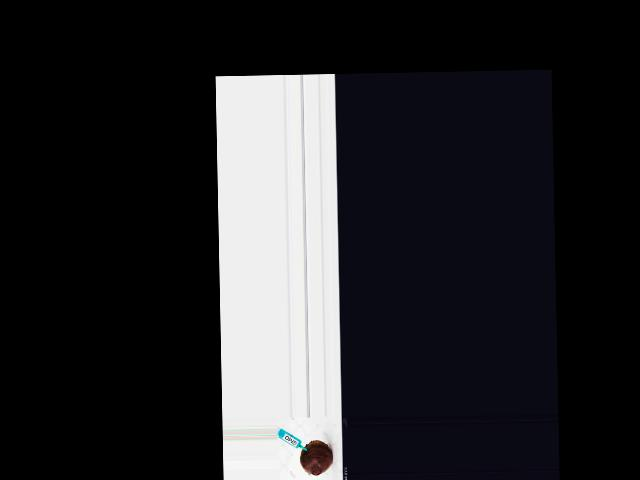beet: (299, 440, 333, 475)
